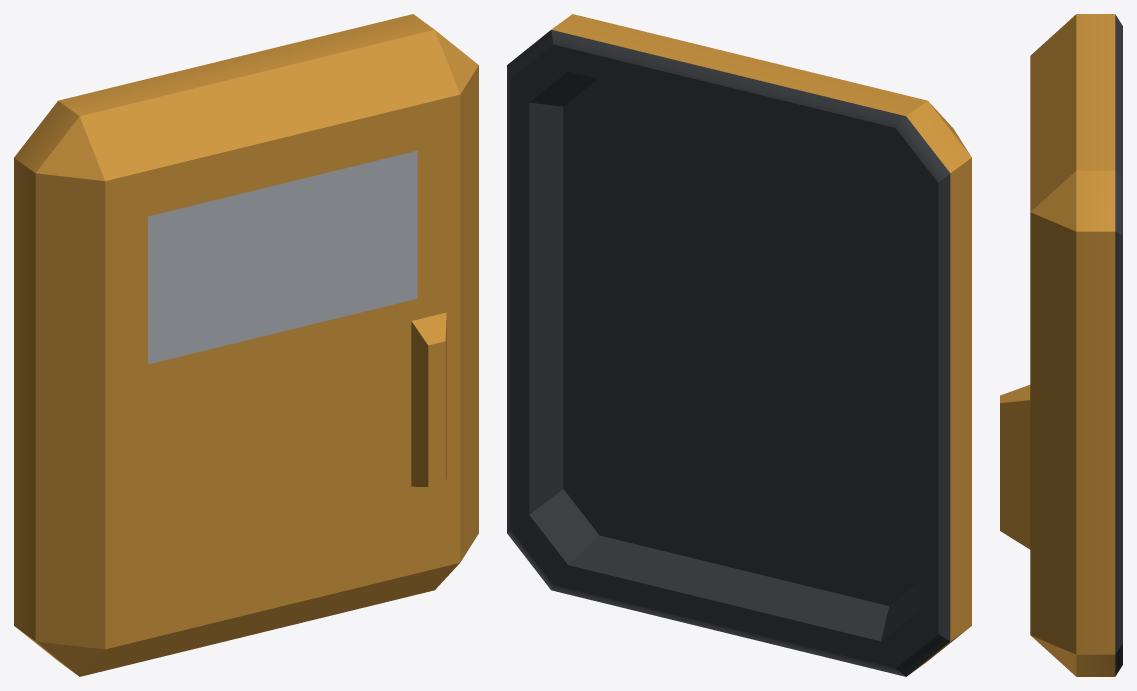
Rendered from SM_Prop_Emergency_Phone_Cover_01.fbx.
3 renders of one model, left to right at view 1: azimuth 30°, elevation 25°; view 2: azimuth 150°, elevation 25°; view 3: azimuth 270°, elevation 25°, orthographic. The views are drawn at different scales.
Parts seen in each view (by area): view 1: SM_Prop_Emergency_Phone_Cover_01; view 2: SM_Prop_Emergency_Phone_Cover_01; view 3: SM_Prop_Emergency_Phone_Cover_01.
Boxes of the visible parts, left/top/right/bottom form: SM_Prop_Emergency_Phone_Cover_01: left=14, top=14, right=478, bottom=676; SM_Prop_Emergency_Phone_Cover_01: left=507, top=14, right=971, bottom=676; SM_Prop_Emergency_Phone_Cover_01: left=1000, top=14, right=1122, bottom=676.
Size of the model in its own units: 36.44 by 44.03 by 9.67.
